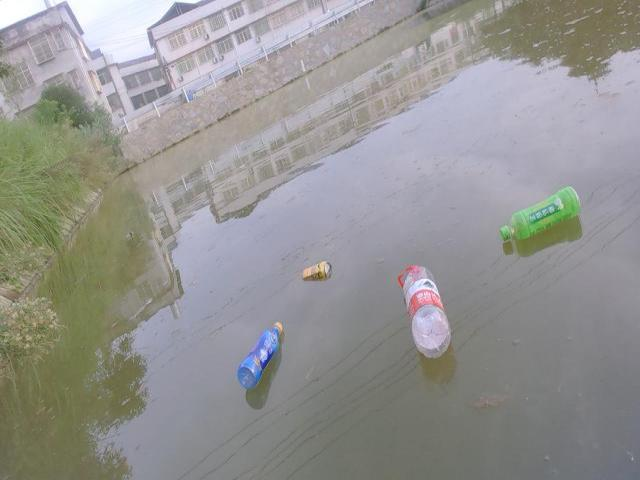Bottle: (395, 263, 457, 362), (498, 183, 588, 249), (226, 318, 292, 394)
Can: (298, 259, 336, 287)
